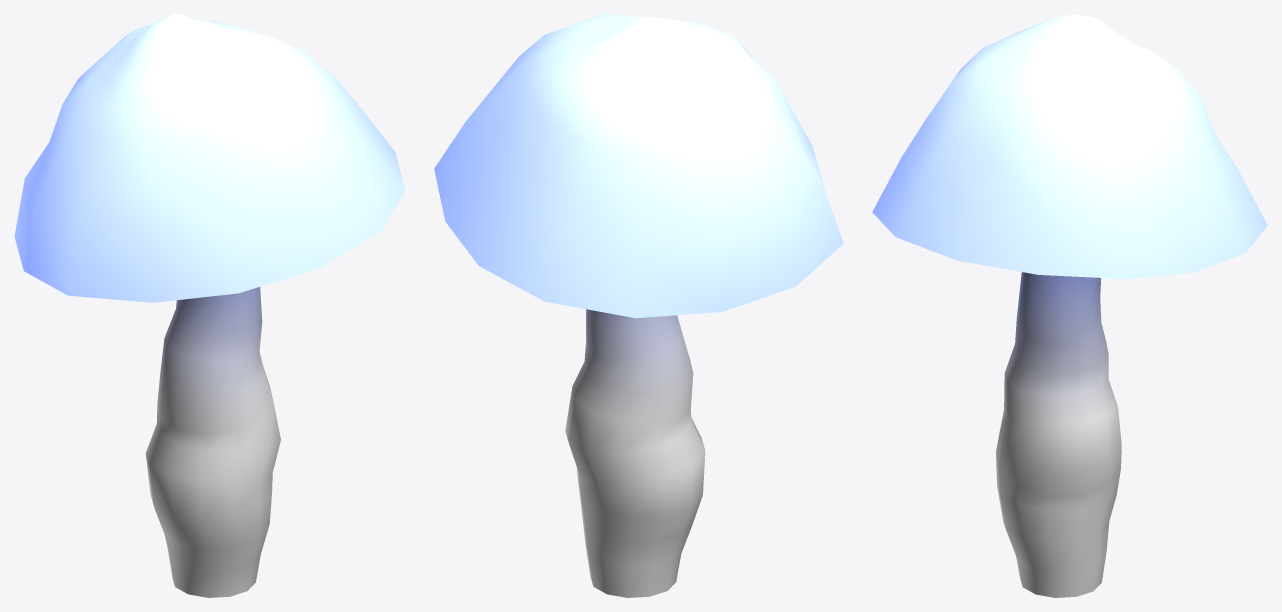
File: mushroom_4.glb
3 views of the same model, side by side, from view 1: azimuth 30°, elevation 25°; view 2: azimuth 150°, elevation 25°; view 3: azimuth 270°, elevation 25° (orthographic). The views are drawn at different scales.
Parts seen in each view (by area): view 1: geo1; view 2: geo1; view 3: geo1.
Boxes of the visible parts, <box> form: geo1: <box>14,14,405,597</box>; geo1: <box>434,14,843,597</box>; geo1: <box>872,14,1267,597</box>.
Size of the model in its own units: 0.2193 by 0.3404 by 0.2216.
